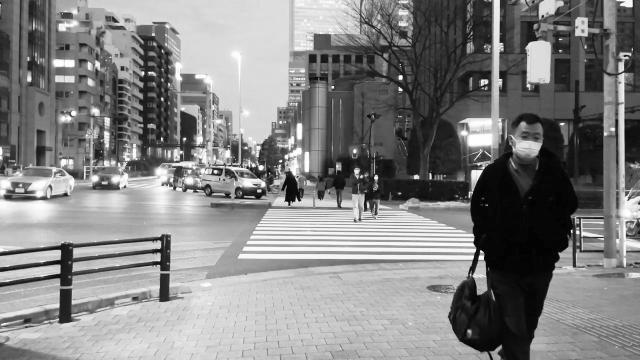berjalan: (465, 110, 579, 360), (350, 164, 368, 224), (368, 171, 382, 221)
